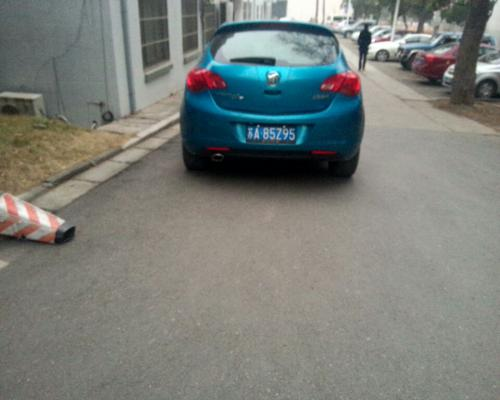Carplate: (241, 120, 302, 146)
